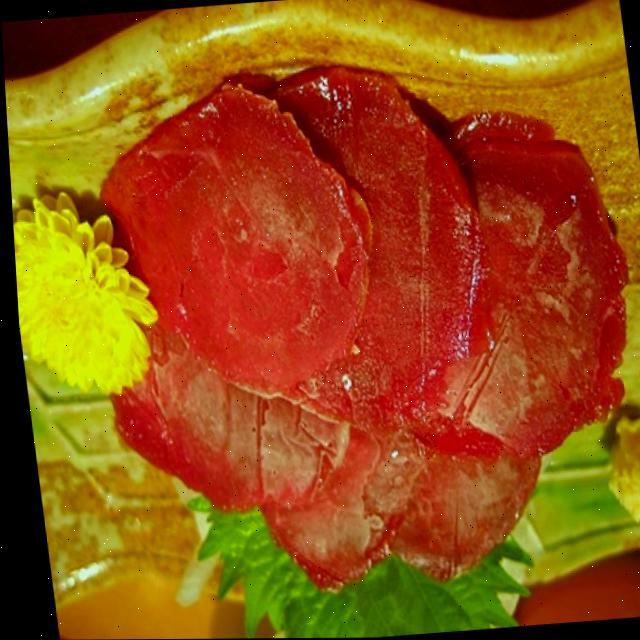刺身生食: (1, 22, 640, 640)
